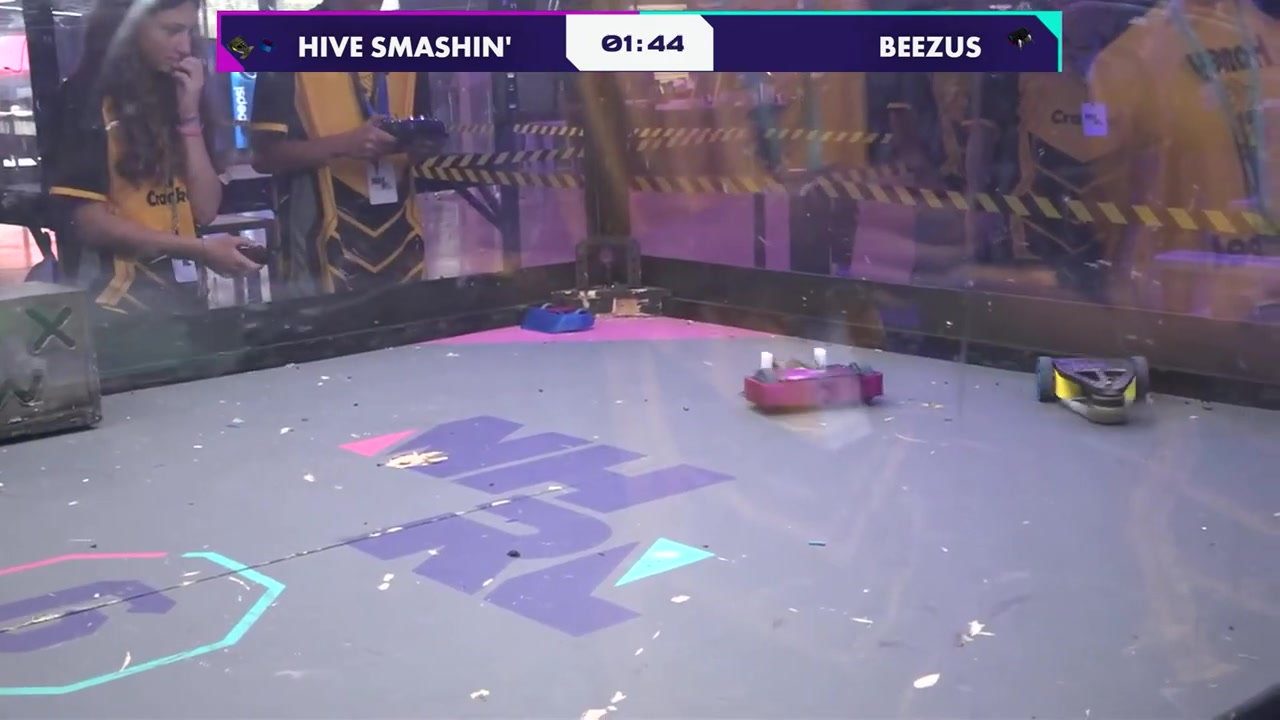combatbot: (743, 351, 887, 416), (1034, 352, 1157, 428)
housebot: (0, 285, 103, 453)
minibot: (523, 300, 595, 337)
